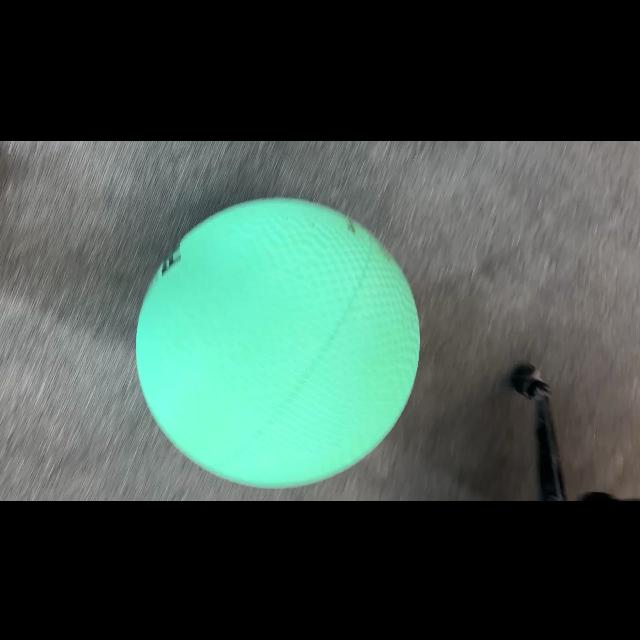ALGAE: (134, 196, 422, 488)
